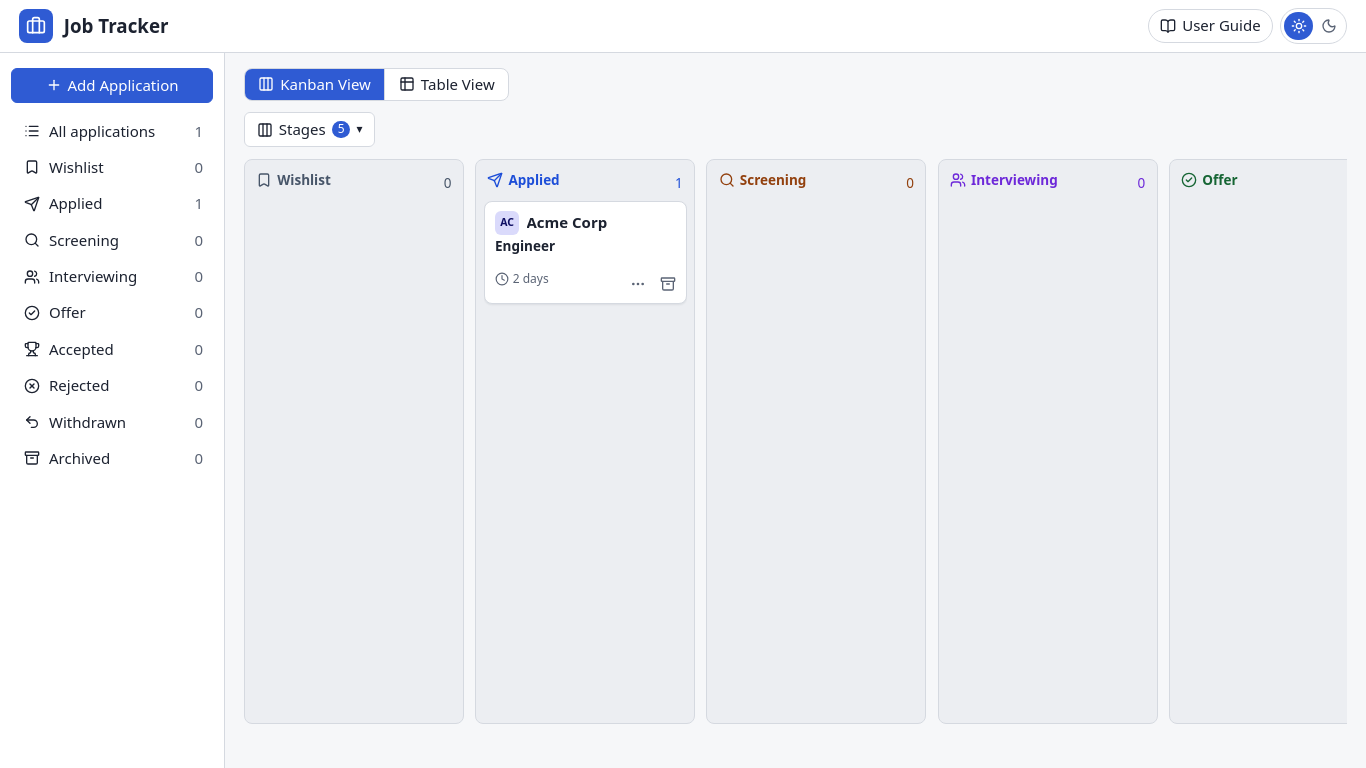
Test: opening the form from every screen (spec 015, AC-3) › opens the Add application form, starting on Wishlist, from the board
Expected: the text "All applications" is shown, [49,120,155,140]
Click the button "Add Application": click(112, 85) [11,68,213,102]
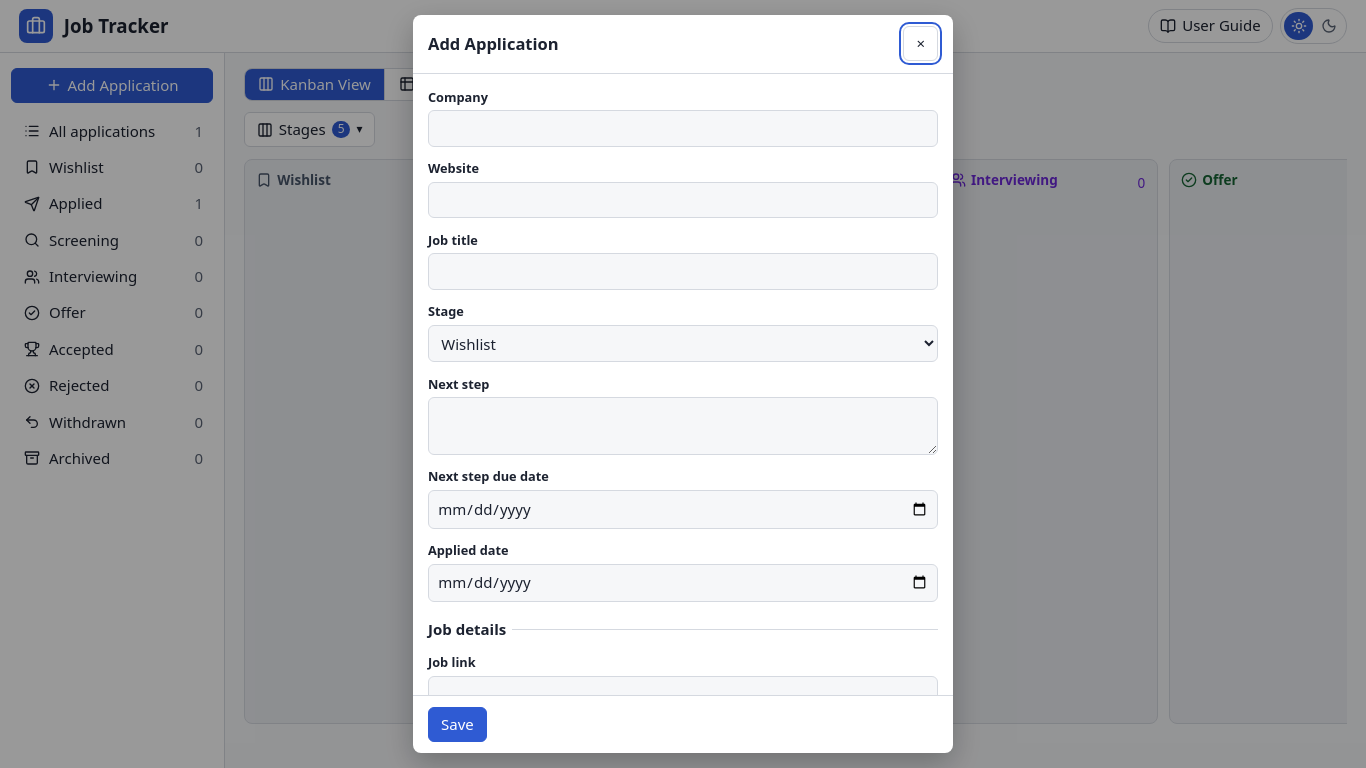
Expected: the dropdown labelled "Stage" shows "Wishlist", [428,325,938,362]
Expected: the number of dialogs is 1, [413,15,953,753]
